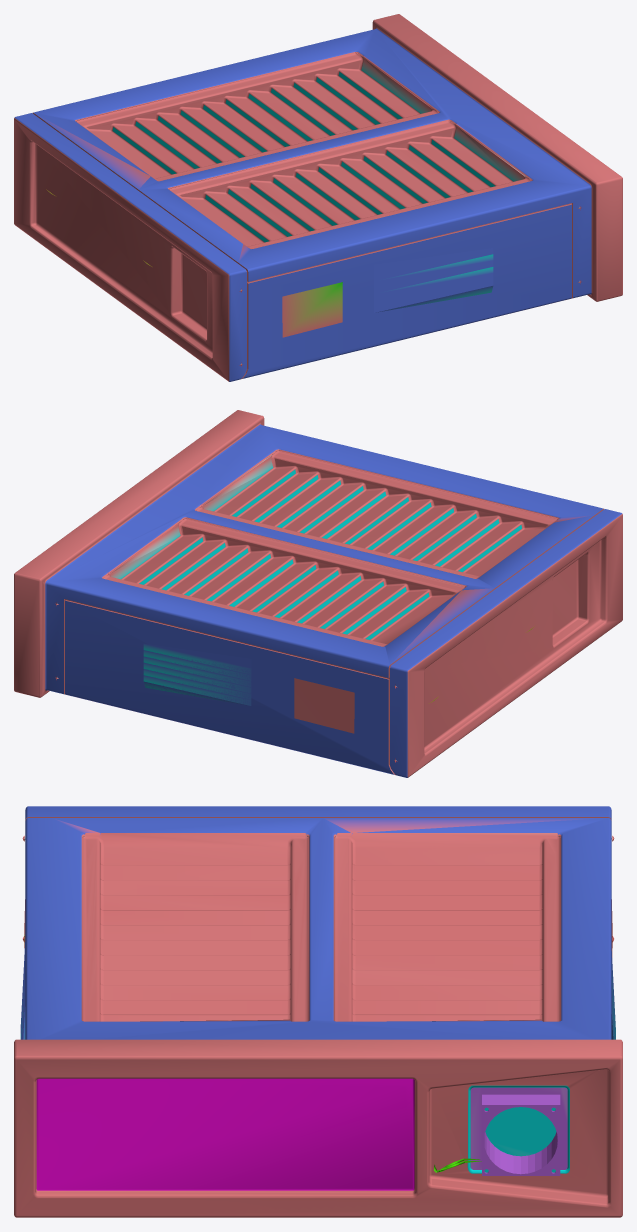
The model's file is MoneyPrinter_LOD3.fbx.
3 views of the same model, one above another, from view 1: azimuth 30°, elevation 25°; view 2: azimuth 150°, elevation 25°; view 3: azimuth 270°, elevation 25° (orthographic). The views are drawn at different scales.
Visible parts, largest first — view 1: Fluent_Wire.010; view 2: Fluent_Wire.010; view 3: Fluent_Wire.010.
Part boxes in pixels (box(x1,y1,x2,y2)): Fluent_Wire.010: box(14, 14, 622, 381); Fluent_Wire.010: box(14, 410, 622, 777); Fluent_Wire.010: box(14, 806, 622, 1217).
Bounding box in the file's own units: 34.67 × 10.04 × 34.23.
